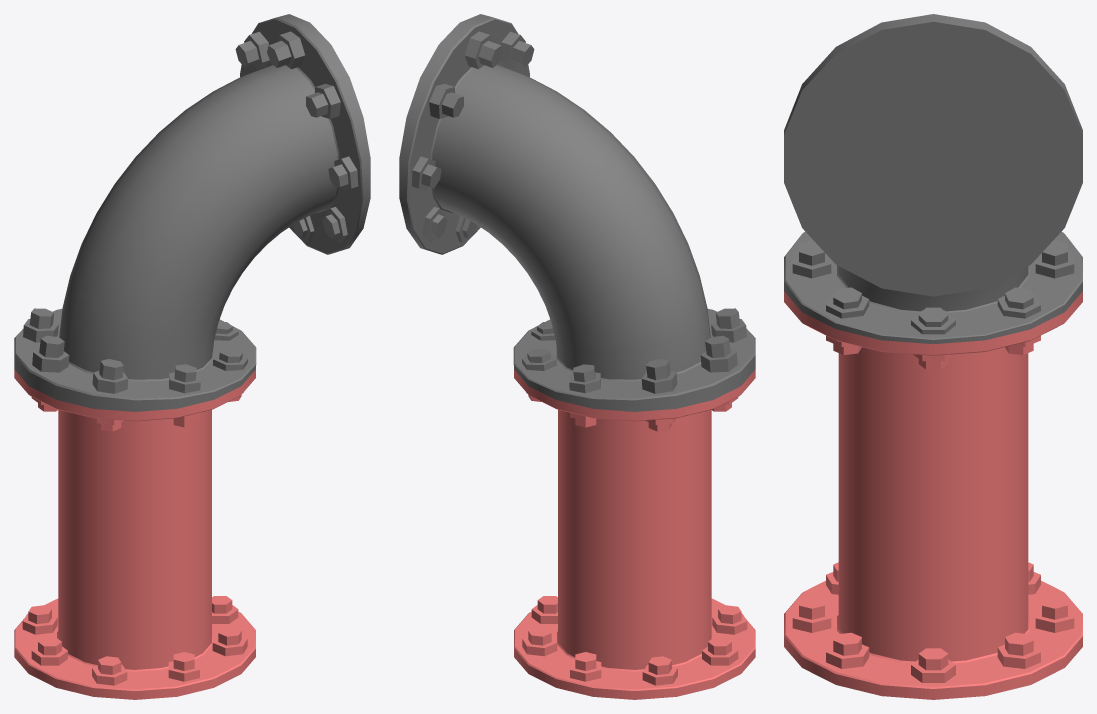
File: Pipes.fbx
The picture shows the model from 3 angles, left to right: view 1: azimuth 30°, elevation 25°; view 2: azimuth 150°, elevation 25°; view 3: azimuth 270°, elevation 25°; orthographic projection. The views are drawn at different scales.
Parts seen in each view (by area): view 1: Pipe90, Pipestraight; view 2: Pipe90, Pipestraight; view 3: Pipe90, Pipestraight.
Part boxes in pixels (x1=…): Pipe90: x1=14, y1=14, x2=370, y2=411; Pipestraight: x1=14, y1=369, x2=255, y2=699; Pipe90: x1=399, y1=14, x2=755, y2=411; Pipestraight: x1=514, y1=369, x2=755, y2=699; Pipe90: x1=784, y1=14, x2=1082, y2=344; Pipestraight: x1=784, y1=291, x2=1082, y2=699.
Bounding box in the file's own units: 62.56 × 124 × 46.54.
